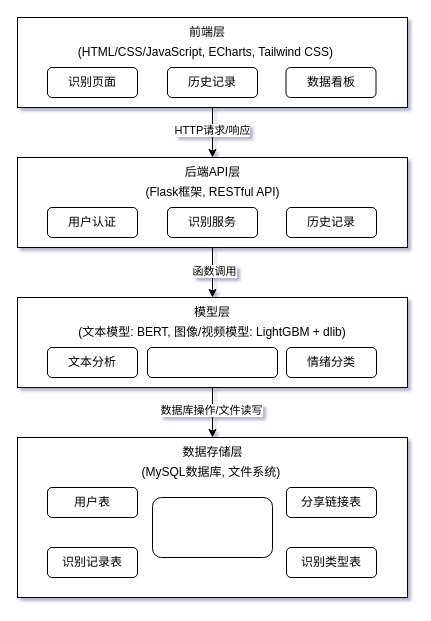
Some shapes in this 431 by 621 pixel diagram are drawn without their labels. The shapes that lost their labels are listed below. From the top down, each one's centre as x and y in pixels, then its label:
pixel 212 362: 图像/视频特征提取
pixel 212 527: 文件存储系统
